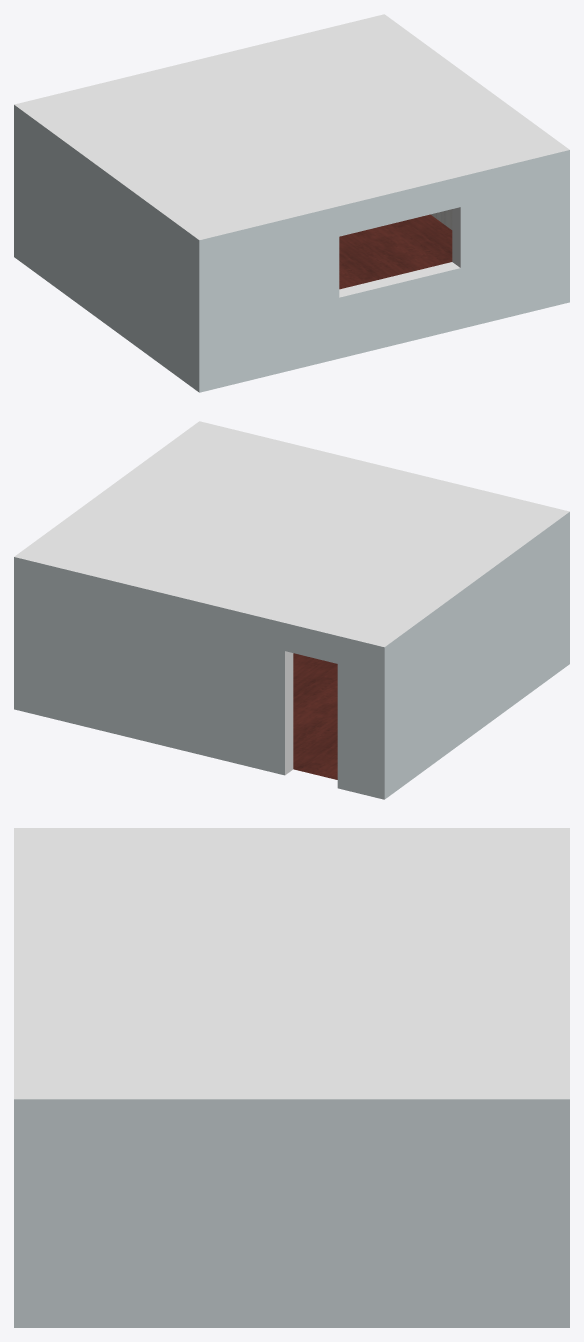
The model's file is first_bedroom_frame.dae.
3 renders of one model, top to bottom at view 1: azimuth 30°, elevation 25°; view 2: azimuth 150°, elevation 25°; view 3: azimuth 270°, elevation 25°, orthographic. The views are drawn at different scales.
Visible parts, largest first — view 1: outer_wa_ld, ce_first_bedroom_ld, wall_thickness_ld, fl_first_bedroom_ld; view 2: outer_wa_ld, ce_first_bedroom_ld, wall_thickness_ld, fl_first_bedroom_ld; view 3: outer_wa_ld, ce_first_bedroom_ld, wall_thickness_ld.
Boxes of the visible parts, left/top/right/bottom form: outer_wa_ld: left=14, top=105, right=569, bottom=392; ce_first_bedroom_ld: left=37, top=24, right=546, bottom=230; wall_thickness_ld: left=14, top=14, right=569, bottom=297; fl_first_bedroom_ld: left=339, top=214, right=452, bottom=289; outer_wa_ld: left=14, top=512, right=569, bottom=799; ce_first_bedroom_ld: left=37, top=431, right=546, bottom=637; wall_thickness_ld: left=14, top=421, right=569, bottom=775; fl_first_bedroom_ld: left=293, top=653, right=337, bottom=779; outer_wa_ld: left=14, top=1099, right=569, bottom=1327; ce_first_bedroom_ld: left=39, top=838, right=544, bottom=1088; wall_thickness_ld: left=14, top=828, right=569, bottom=1099.
Bounding box in the file's own units: 6.36 × 2.5 × 5.51.
5 materials, 5 textured.
